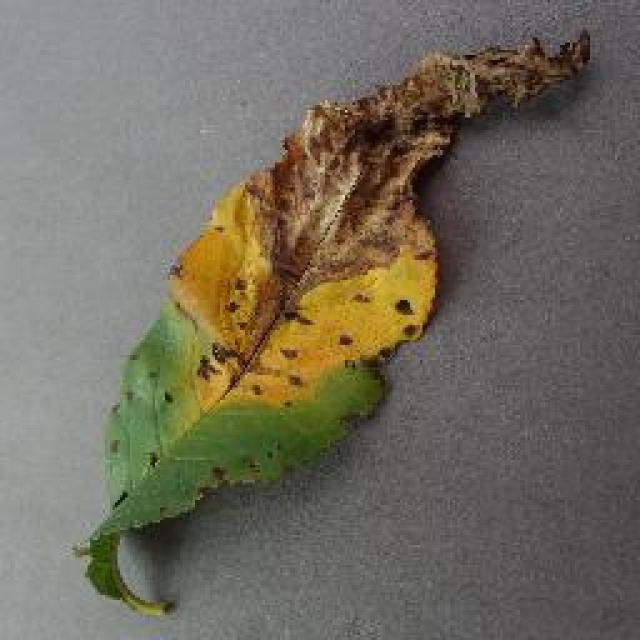Bacterial_spot: (70, 21, 612, 630)
